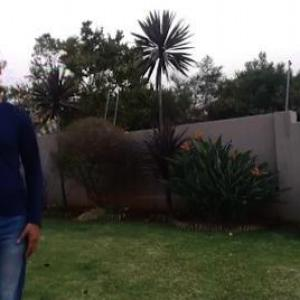follow: (1, 57, 37, 299)
